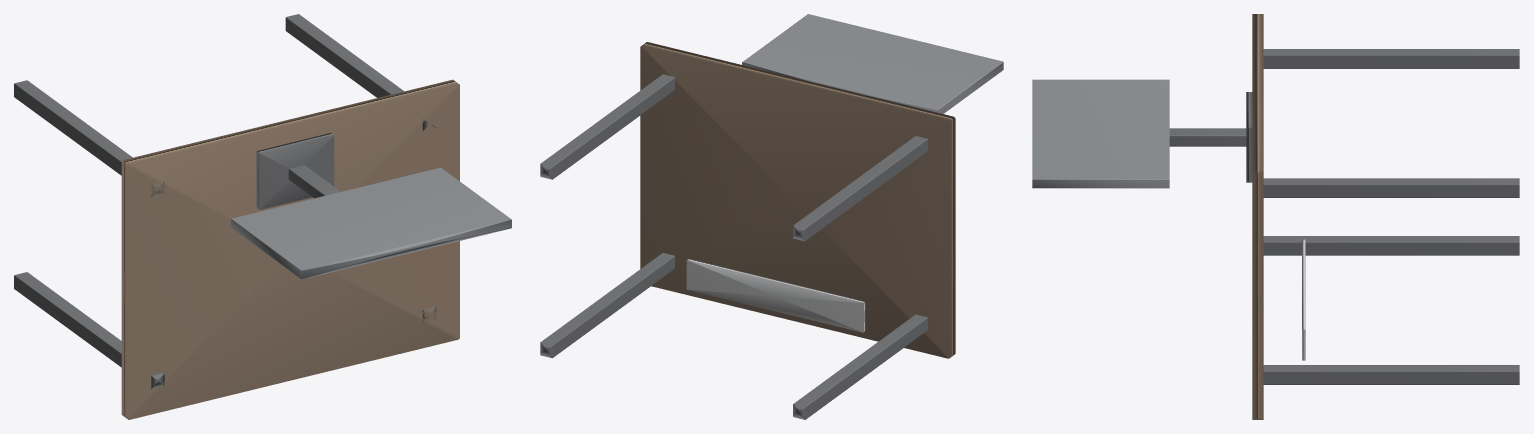
The model's file is office.glb.
3 views of the same model, side by side, from view 1: azimuth 30°, elevation 25°; view 2: azimuth 150°, elevation 25°; view 3: azimuth 270°, elevation 25° (orthographic). The views are drawn at different scales.
Visible parts, largest first — view 1: desk, monitor, legs, monitor_foot, monitor_stem; view 2: desk, monitor, legs, cable_tray; view 3: legs, monitor, desk, monitor_stem, monitor_foot, cable_tray.
Part boxes in pixels (left/top/right/bottom): desk: left=121, top=79, right=459, bottom=419; monitor: left=231, top=167, right=511, bottom=279; legs: left=14, top=14, right=436, bottom=389; monitor_foot: left=256, top=133, right=334, bottom=209; monitor_stem: left=288, top=165, right=340, bottom=198; desk: left=640, top=42, right=955, bottom=358; monitor: left=742, top=14, right=1003, bottom=113; legs: left=540, top=74, right=927, bottom=419; cable_tray: left=686, top=259, right=865, bottom=332; legs: left=1263, top=49, right=1519, bottom=384; monitor: left=1032, top=79, right=1169, bottom=188; desk: left=1252, top=14, right=1263, bottom=419; monitor_stem: left=1169, top=128, right=1246, bottom=146; monitor_foot: left=1246, top=92, right=1252, bottom=182; cable_tray: left=1302, top=239, right=1305, bottom=360.
Bounding box in the file's own units: 0.98 × 0.72 × 1.28.
